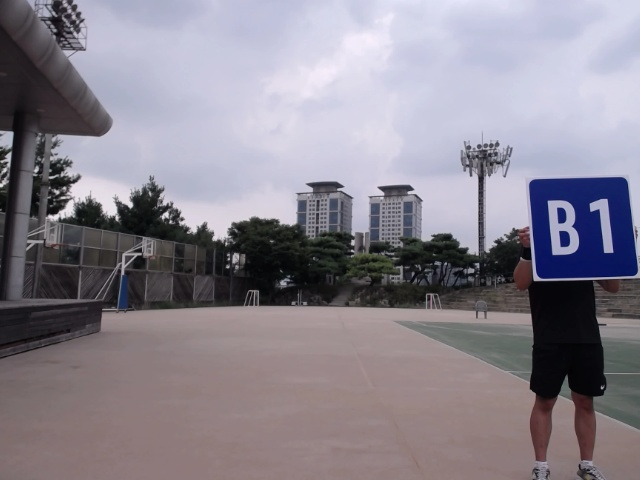delivery_b1: (524, 176, 639, 280)
